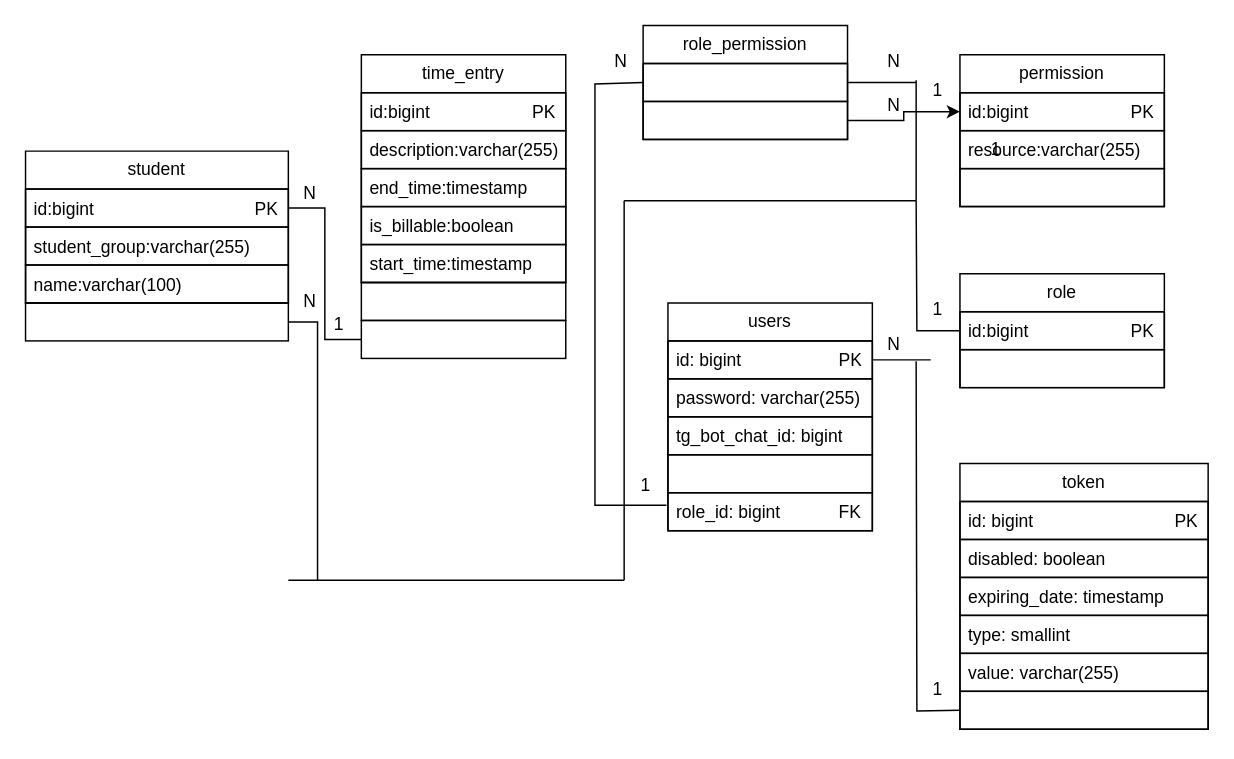
Image size: 1234x759. Some labels were removed from this diagram. Here are the shapes that lost their labels. From the top down, the centre of each, then its label:
At point (745, 81): "role_id:bigint PK".
At point (745, 119): "permission_id:bigint F K".
At point (1061, 187): "operation:varchar(255)".
At point (463, 300): "type:smallint".
At point (156, 321): "role: bigint".
At point (463, 338): "student_id:bigint".
At point (1061, 368): "name:varchar(25)".
At point (769, 473): "username: varchar(255)".
At point (1083, 709): "user_id: bigint FK".
